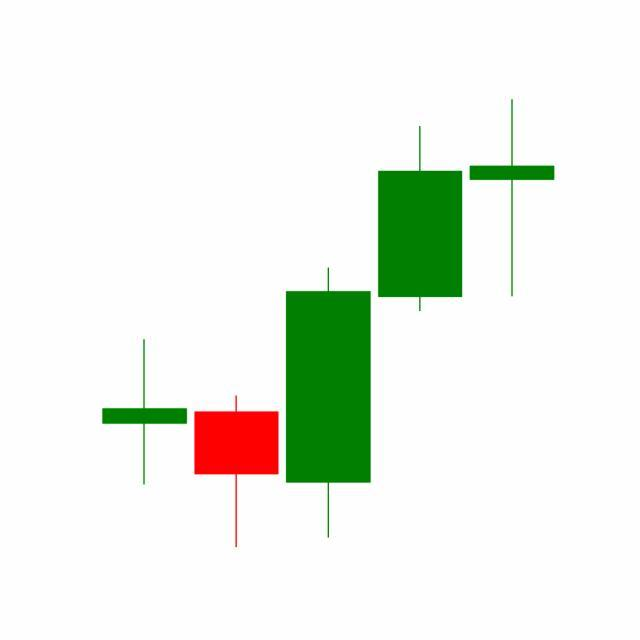Advance Block: (280, 100, 555, 544)
